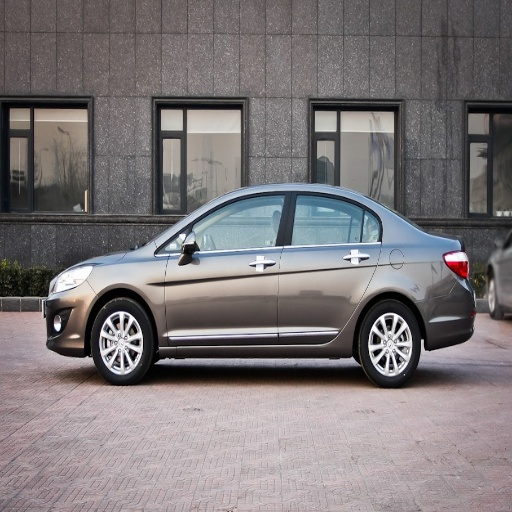back_left_door: (279, 191, 381, 343)
front_left_door: (167, 192, 291, 342)
